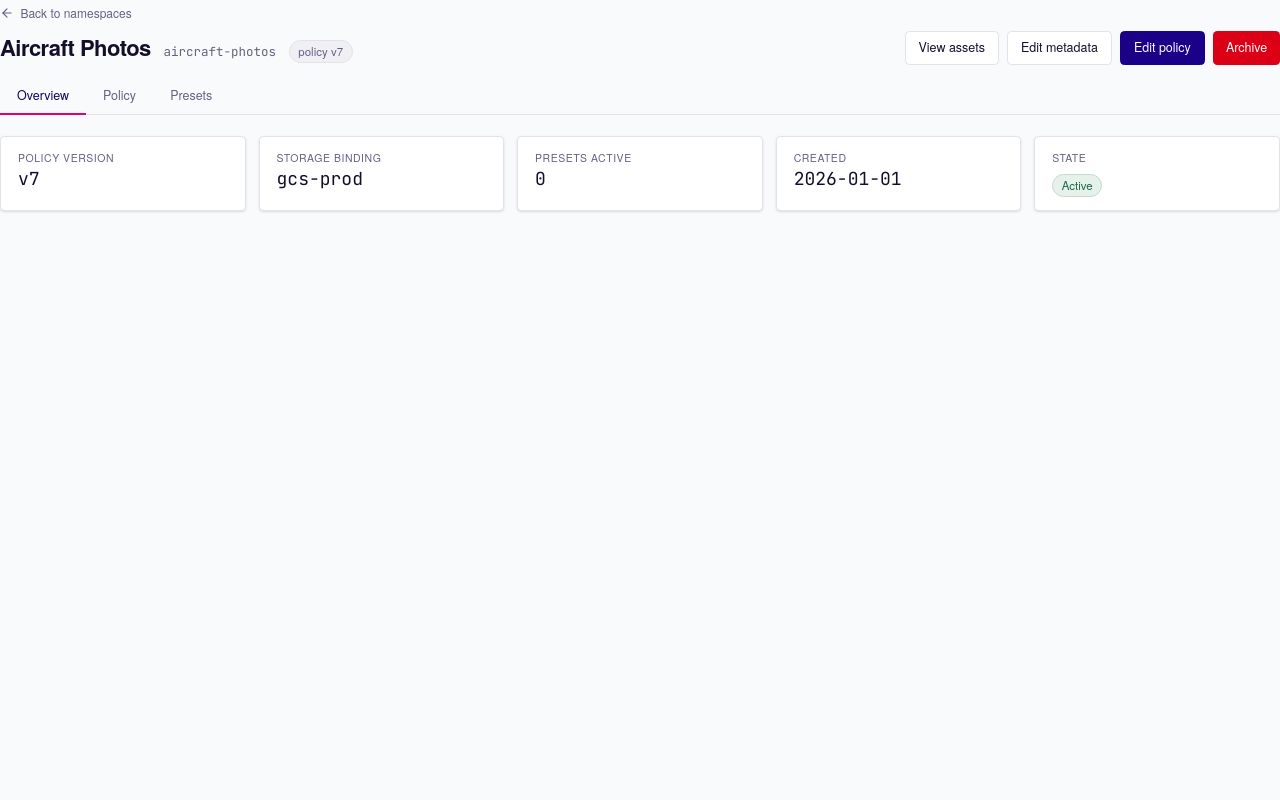
Scenario: NamespaceDetailPage — valid slug › renders Archive button on active namespace and opens dialog with archive mode on click
Click the button "Archive". click: (1247, 48)
box: x1=1213 y1=30 x2=1279 y2=64
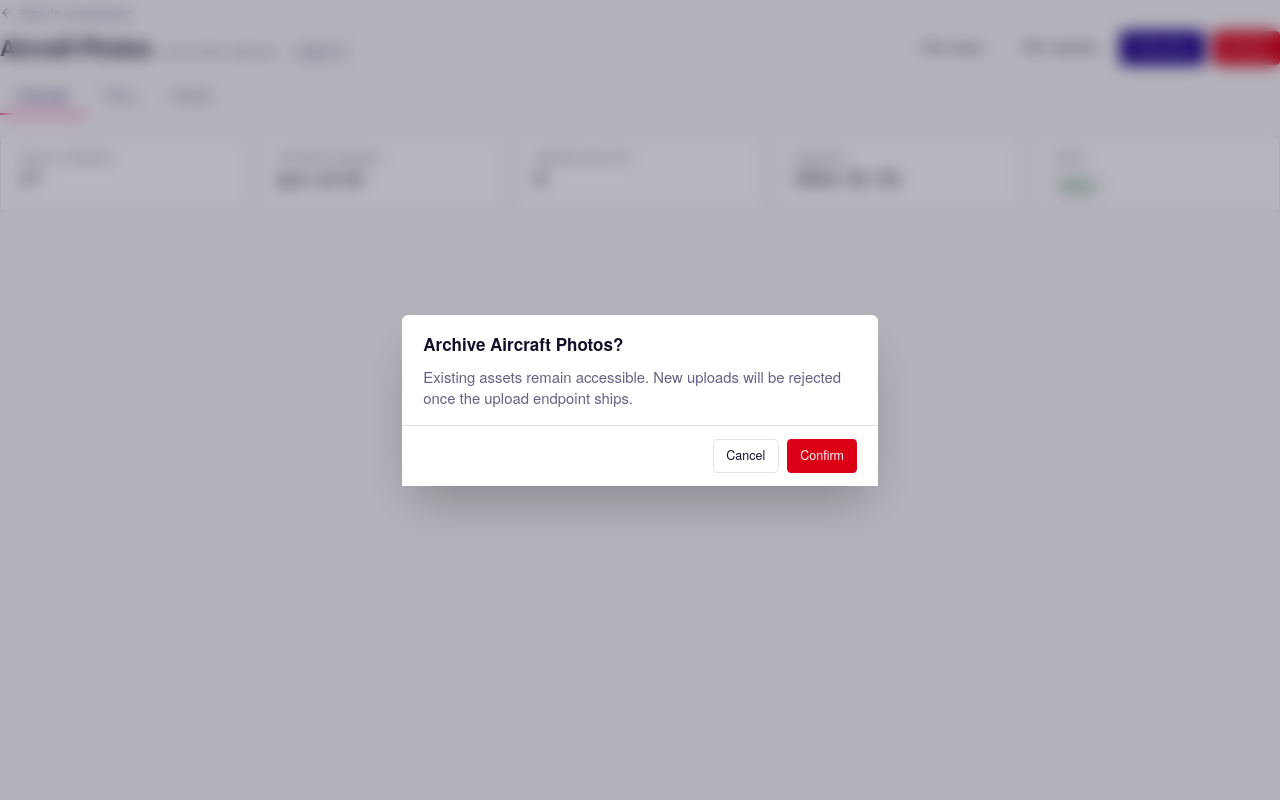
expect the dialog is shown: met, box x1=402 y1=314 x2=878 y2=486
expect the dialog shows "Archive Aircraft Photos?": met, box x1=423 y1=332 x2=623 y2=356
